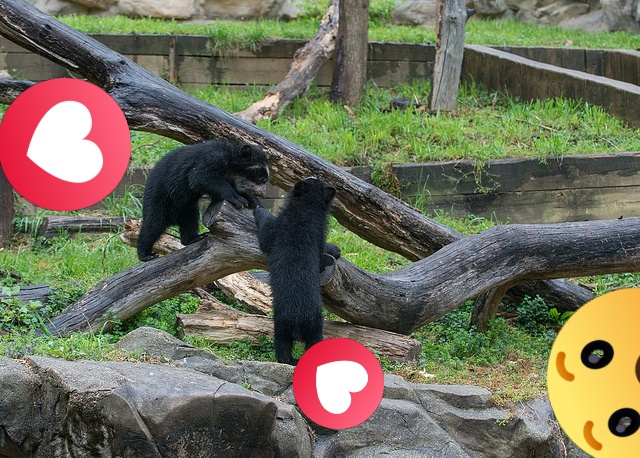love: (0, 78, 131, 211), (293, 338, 384, 429)
wow: (547, 288, 640, 458)
